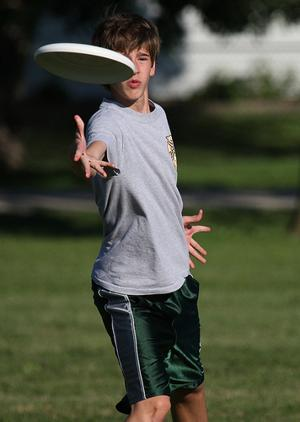person: (74, 11, 210, 422)
